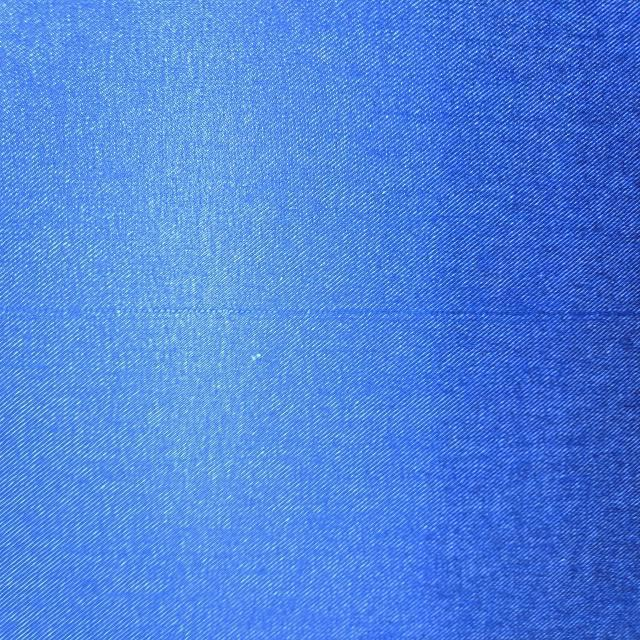Line: (1, 307, 637, 319)
